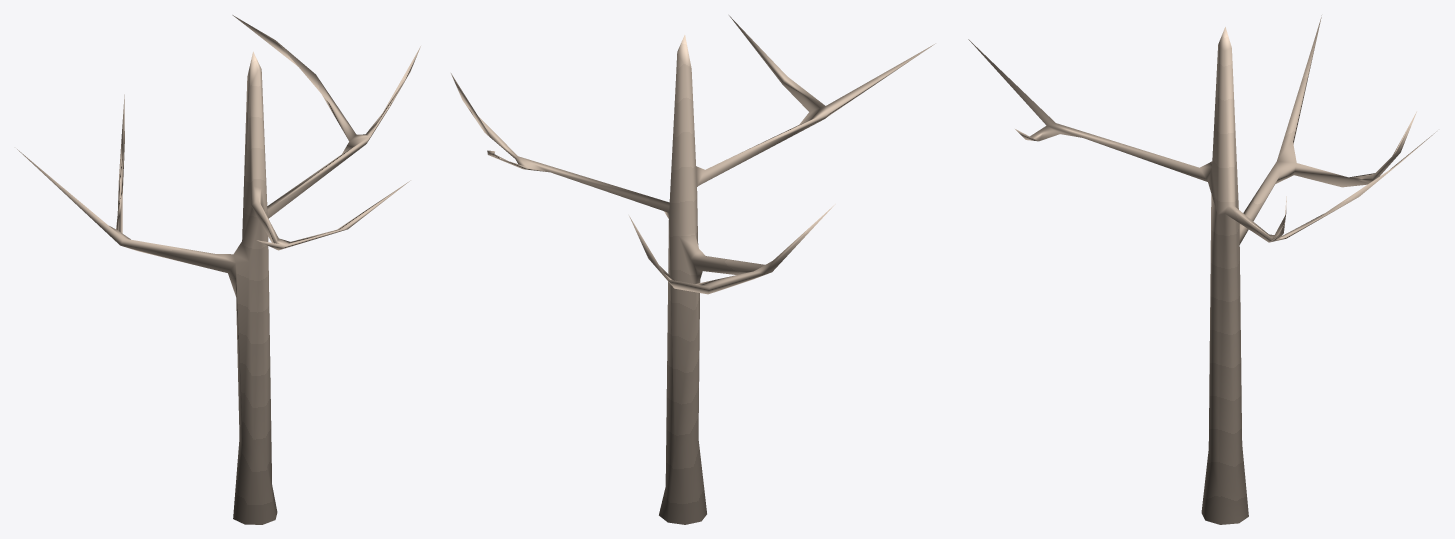
File: Prefab_Foliage_Tree_RedMaple_Trunk.glb
The picture shows the model from 3 angles, left to right: view 1: azimuth 30°, elevation 25°; view 2: azimuth 150°, elevation 25°; view 3: azimuth 270°, elevation 25°; orthographic projection. The views are drawn at different scales.
Visible parts, largest first — view 1: MapleTree_A_Trunk; view 2: MapleTree_A_Trunk; view 3: MapleTree_A_Trunk.
Boxes of the visible parts, left/top/right/bottom form: MapleTree_A_Trunk: left=17, top=15, right=420, bottom=524; MapleTree_A_Trunk: left=451, top=15, right=935, bottom=524; MapleTree_A_Trunk: left=968, top=15, right=1436, bottom=524.
Bounding box in the file's own units: 4.07 × 4.63 × 4.09.
Materials: 1 (1 with a texture image).
